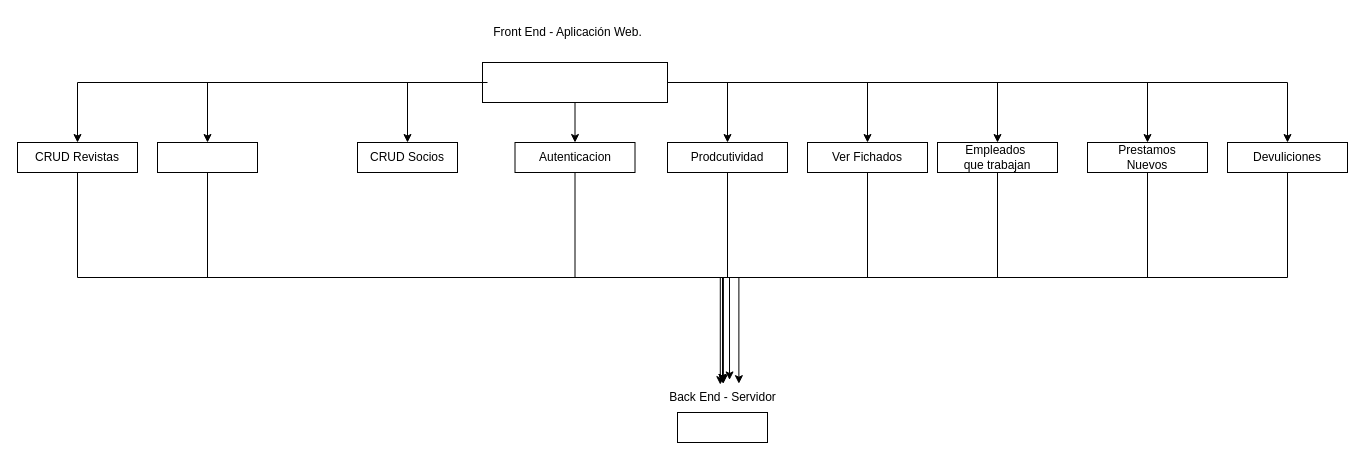
Image size: 1365x460. Some labels were removed from this diagram. Here are the shapes that lost their labels. From the top down, the centre of each, then its label:
At point (575, 82): "Interfaz de Usuario".
At point (207, 157): "CRUD Libros".
At point (722, 427): "Servidor".
